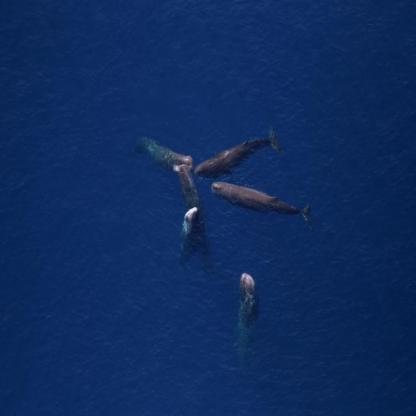sperm_whale: (210, 175, 316, 242), (230, 264, 268, 368), (186, 136, 292, 166)
